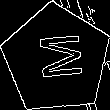M_W: (30, 34, 84, 84)
